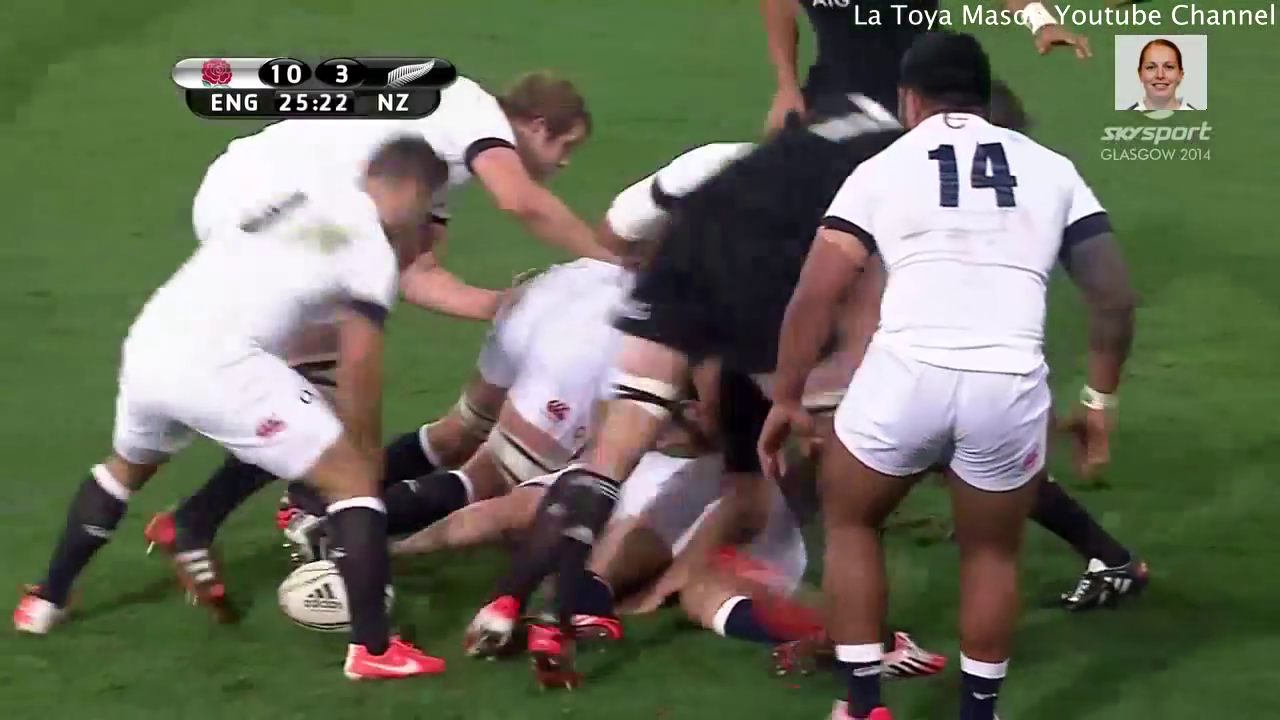ball: (267, 540, 408, 643)
player: (750, 18, 1151, 720), (1, 128, 466, 703), (456, 82, 888, 691), (256, 216, 669, 574), (146, 42, 614, 295)
